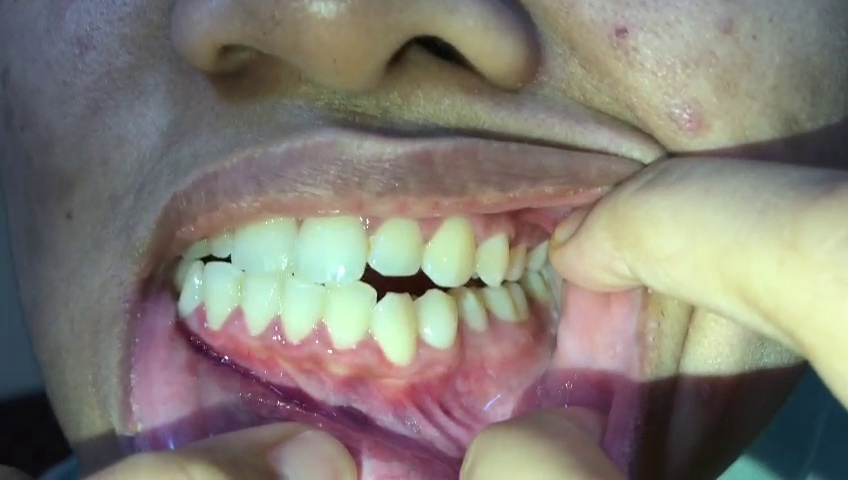1st Molar: (483, 287, 516, 325), (526, 234, 551, 275)
1st Premolar: (416, 288, 458, 351), (473, 231, 513, 286)
2nd Molar: (509, 282, 530, 320)
2nd Premolar: (453, 288, 492, 333), (505, 237, 527, 281)
3rd Molar: (522, 272, 549, 304)
Canine: (422, 214, 473, 287), (371, 292, 416, 365), (178, 254, 205, 322)
Central Incisor: (293, 204, 369, 285), (227, 200, 295, 274), (281, 270, 324, 345), (239, 271, 283, 341)
Lateral Incisor: (321, 275, 376, 350), (369, 211, 423, 277), (202, 260, 240, 333)
